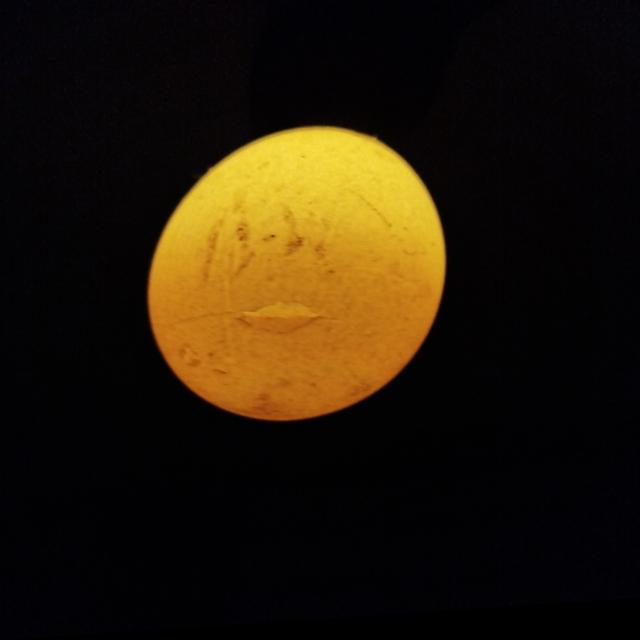Rachadura: (239, 306, 324, 338)
